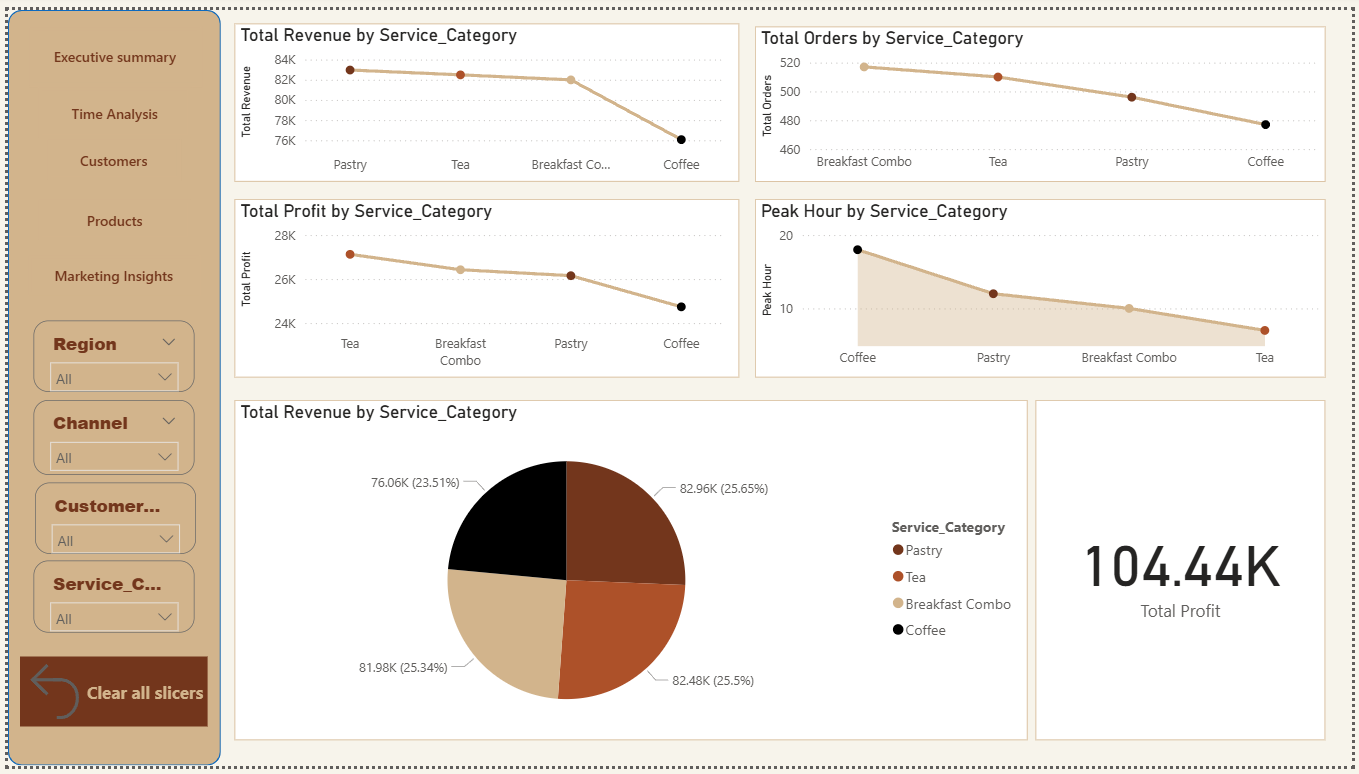

The page's visual inventory and layout, read from the dashboard file:
{"tool":"powerbi","page":{"name":"Page 5","canvas":[1280,720],"ordinal":4},"visuals":[{"type":"shape","box":[0,0,202.6,719.6],"z":0},{"type":"group","id":"g1","title":"Group 2","box":[24,296,154,298],"z":1000},{"type":"actionButton","box":[11.7,615,178.3,66.7],"z":2000},{"type":"group","id":"g2","title":"Group 3","box":[18,16,166,257],"z":3000},{"type":"lineChart","fields":{"Category":["Sheet1.Service_Category"],"Y":["Sheet1.Total Revenue"]},"box":[216.4,13.4,480.6,150.7],"z":4000},{"type":"lineChart","fields":{"Category":["Sheet1.Service_Category"],"Y":["Sheet1.Total Profit"]},"box":[216.4,180.6,480.6,170.1],"z":5000},{"type":"pieChart","fields":{"Category":["Sheet1.Service_Category"],"Y":["Sheet1.Total Revenue"]},"box":[216.4,371.6,755.2,323.9],"z":6000},{"type":"lineChart","fields":{"Category":["Sheet1.Service_Category"],"Y":["Sheet1.Total Orders"]},"box":[711.9,16.4,543.3,147.8],"z":7000},{"type":"areaChart","fields":{"Y":["Sheet1.Peak Hour"],"Category":["Sheet1.Service_Category"]},"box":[711.9,180.6,543.3,170.1],"z":8000},{"type":"slicer","fields":{"Values":["Sheet1.Region"]},"box":[24,296,153.3,67.8],"z":9000,"group":"g1"},{"type":"card","fields":{"Values":["Sheet1.Total Profit"]},"box":[979.1,371.6,276.1,323.9],"z":9000},{"type":"slicer","fields":{"Values":["Sheet1.Channel"]},"box":[24,371.6,153.3,71.1],"z":10000,"group":"g1"},{"type":"slicer","fields":{"Values":["Sheet1.Customer_Type"]},"box":[25.1,450.4,153.3,67.8],"z":11000,"group":"g1"},{"type":"slicer","fields":{"Values":["Sheet1.Service_Category"]},"box":[24,524.9,153.3,68.9],"z":12000,"group":"g1"},{"type":"actionButton","box":[19.2,16,164.4,57.8],"z":14000,"group":"g2"},{"type":"actionButton","box":[28.1,73.8,146.7,50],"z":15000,"group":"g2"},{"type":"actionButton","box":[37,123.8,127.8,40],"z":16000,"group":"g2"},{"type":"actionButton","box":[28.1,180.4,146.7,40],"z":17000,"group":"g2"},{"type":"actionButton","box":[18,233.4,165,40],"z":18000,"group":"g2"}]}

Visuals, with their boxes in screenshot pixels (x1, y1, x2, y2), scaled from the page's 1280x720 canvas onto the 1359x774 screenshot:
shape: bbox(0, 0, 215, 773)
"Group 2" group: bbox(25, 318, 189, 639)
actionButton: bbox(12, 661, 202, 733)
"Group 3" group: bbox(19, 17, 195, 293)
lineChart - Sheet1.Service_Category x Sheet1.Total Revenue: bbox(230, 14, 740, 176)
lineChart - Sheet1.Service_Category x Sheet1.Total Profit: bbox(230, 194, 740, 377)
pieChart - Sheet1.Service_Category x Sheet1.Total Revenue: bbox(230, 399, 1032, 748)
lineChart - Sheet1.Service_Category x Sheet1.Total Orders: bbox(756, 18, 1333, 177)
areaChart - Sheet1.Peak Hour x Sheet1.Service_Category: bbox(756, 194, 1333, 377)
slicer - Sheet1.Region: bbox(25, 318, 188, 391)
card - Sheet1.Total Profit: bbox(1040, 399, 1333, 748)
slicer - Sheet1.Channel: bbox(25, 399, 188, 476)
slicer - Sheet1.Customer_Type: bbox(27, 484, 189, 557)
slicer - Sheet1.Service_Category: bbox(25, 564, 188, 638)
actionButton: bbox(20, 17, 195, 79)
actionButton: bbox(30, 79, 186, 133)
actionButton: bbox(39, 133, 175, 176)
actionButton: bbox(30, 194, 186, 237)
actionButton: bbox(19, 251, 194, 294)
